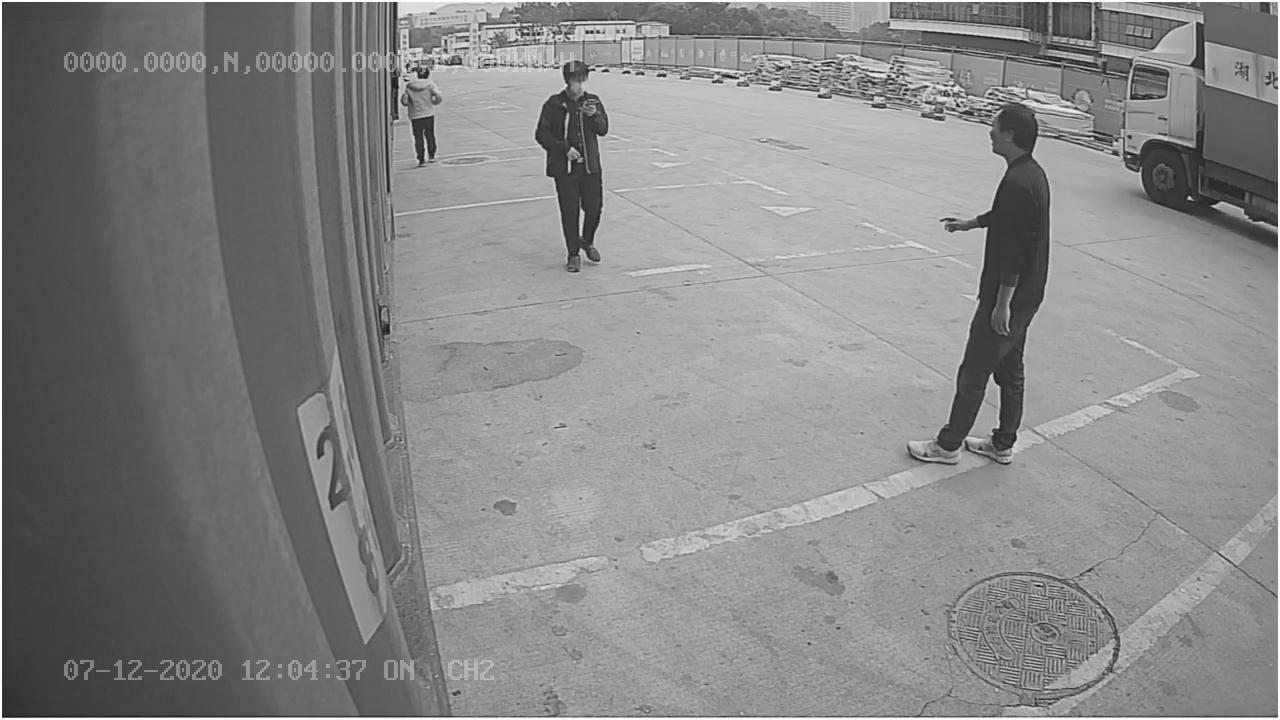person: (904, 102, 1053, 473), (530, 55, 620, 286)
